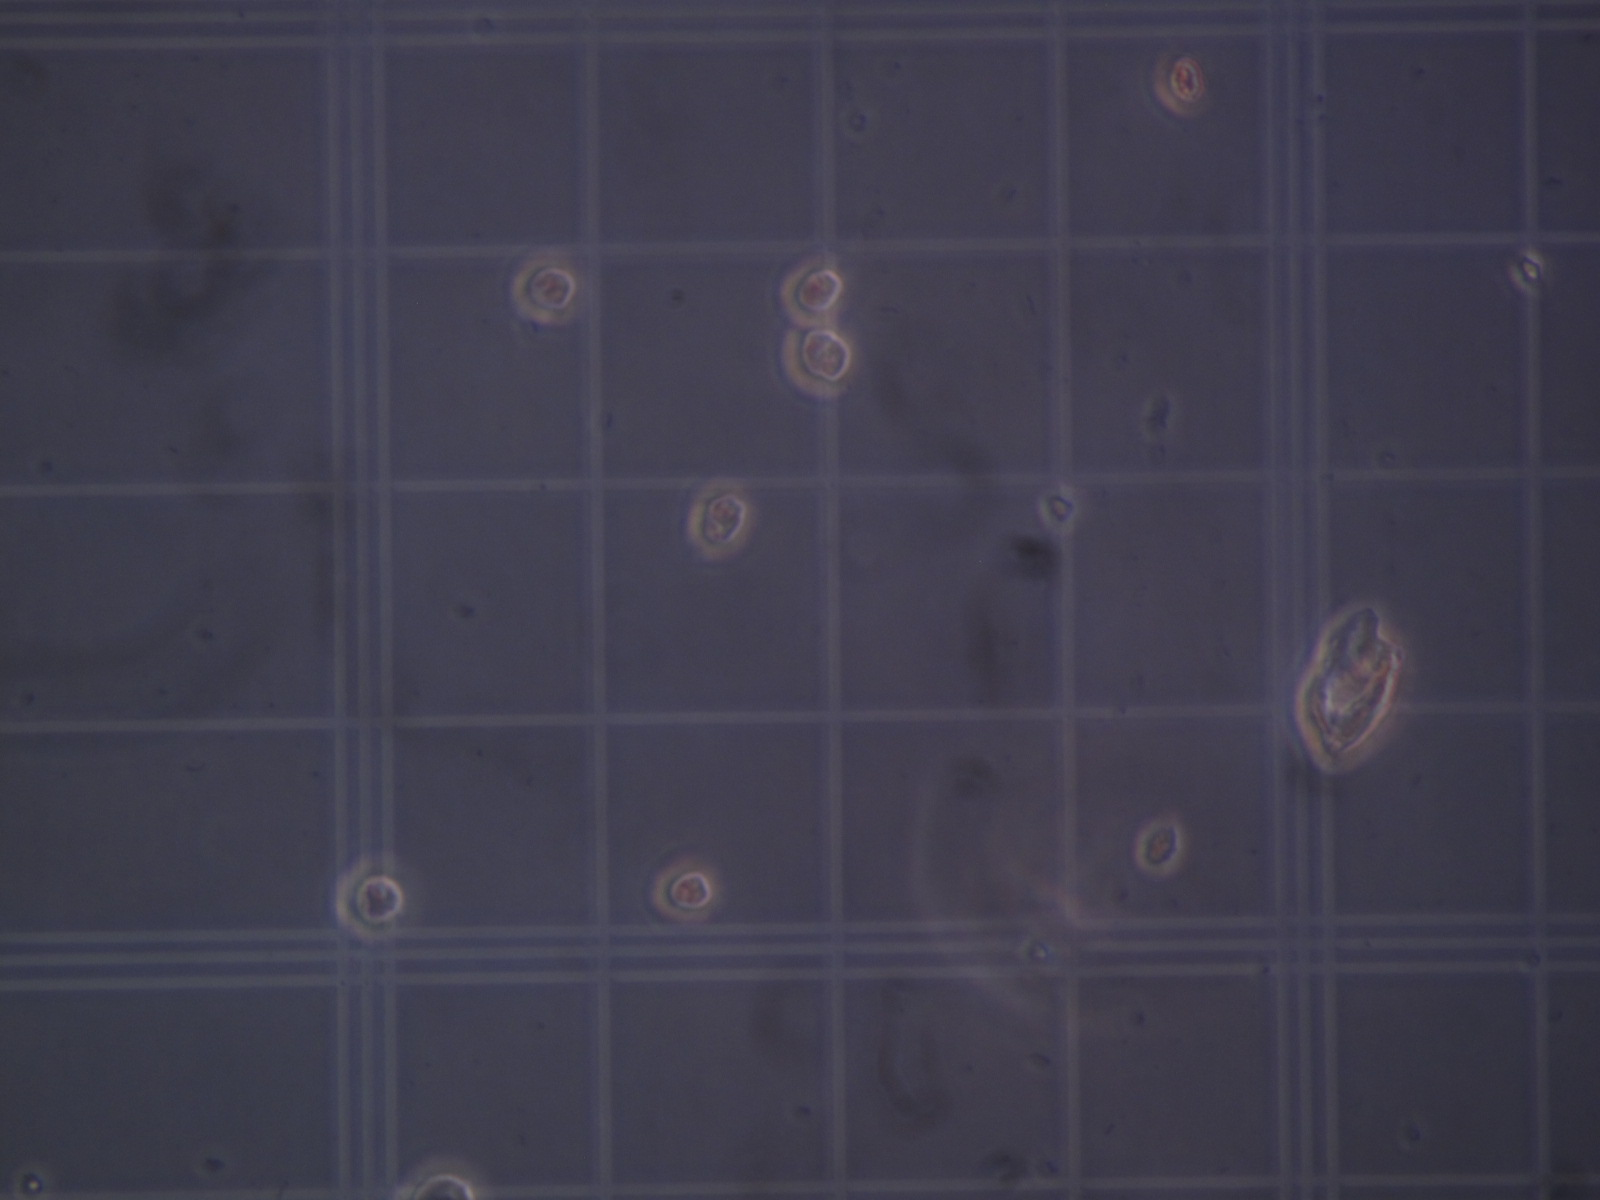hemo: (334, 858, 404, 942), (781, 325, 852, 398), (687, 482, 751, 560), (510, 256, 580, 325), (653, 857, 722, 921), (780, 261, 847, 326), (392, 1157, 480, 1200), (1151, 50, 1206, 117), (1134, 818, 1184, 876)
